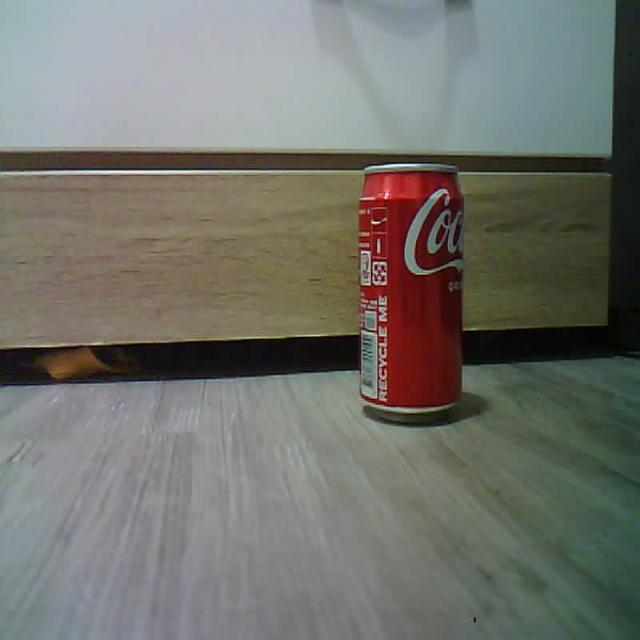can: (358, 163, 463, 421)
